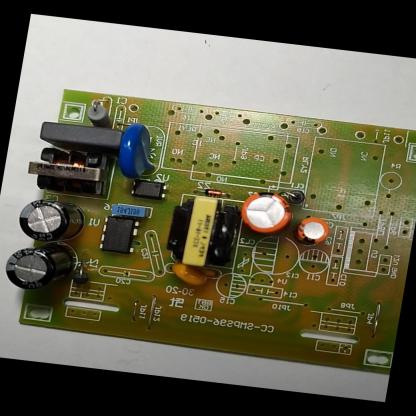Cap1: (237, 190, 295, 234)
Cap2: (293, 215, 331, 246)
Cap3: (16, 196, 88, 245)
Cap4: (2, 238, 77, 294)
MOSFET: (97, 215, 139, 254)
Mov: (115, 122, 162, 181)
Resistor: (83, 102, 117, 128)
Transformer: (163, 195, 243, 270), (22, 144, 113, 198)
